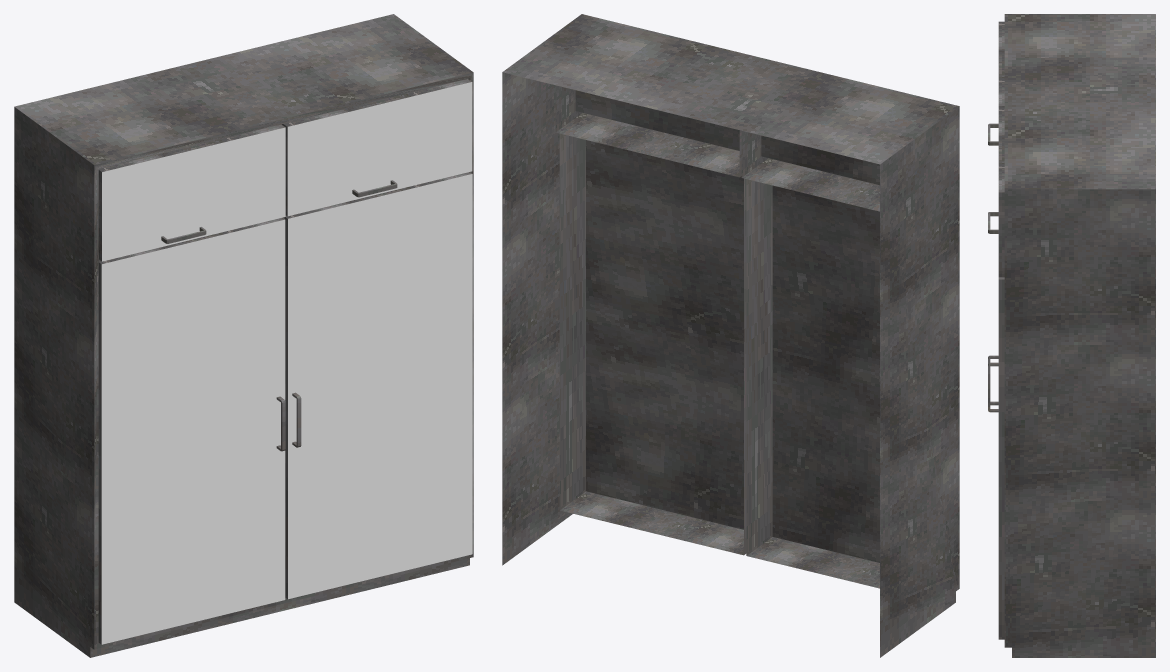
Rendered from cj_kitch2_fridge.obj.
3 views of the same model, side by side, from view 1: azimuth 30°, elevation 25°; view 2: azimuth 150°, elevation 25°; view 3: azimuth 270°, elevation 25° (orthographic). The views are drawn at different scales.
Visible parts, largest first — view 1: CJ_KITCH2_FRIDGE; view 2: CJ_KITCH2_FRIDGE; view 3: CJ_KITCH2_FRIDGE.
Part boxes in pixels (left/top/right/bottom): CJ_KITCH2_FRIDGE: left=14, top=14, right=473, bottom=657; CJ_KITCH2_FRIDGE: left=502, top=14, right=959, bottom=657; CJ_KITCH2_FRIDGE: left=988, top=14, right=1155, bottom=657.
Bounding box in the file's own units: 2 × 2.5 × 0.8092.
